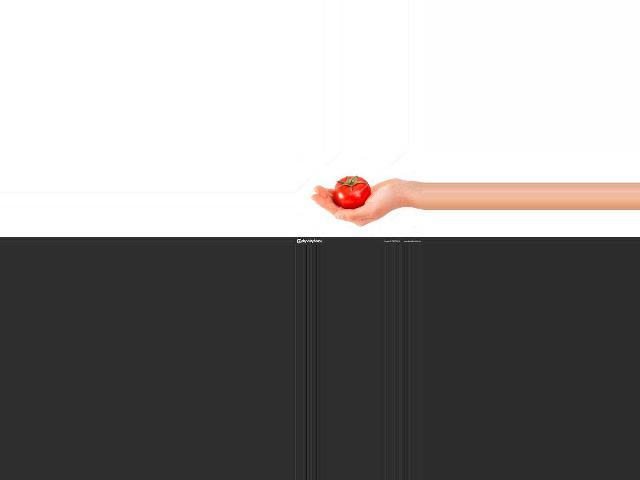tomato: (335, 176, 371, 208)
